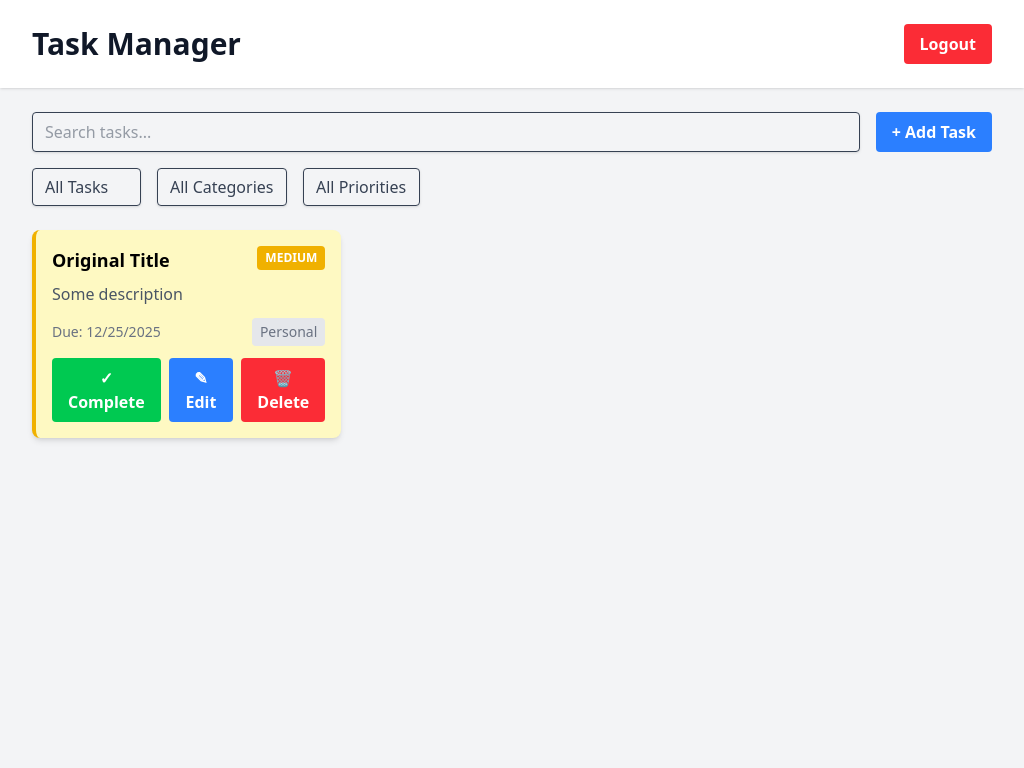
Scenario: TaskManager › shows success notification when editing a task
# Enter edit mode
Click the button with aria-label "edit task": click(201, 390) [169,358,233,422]
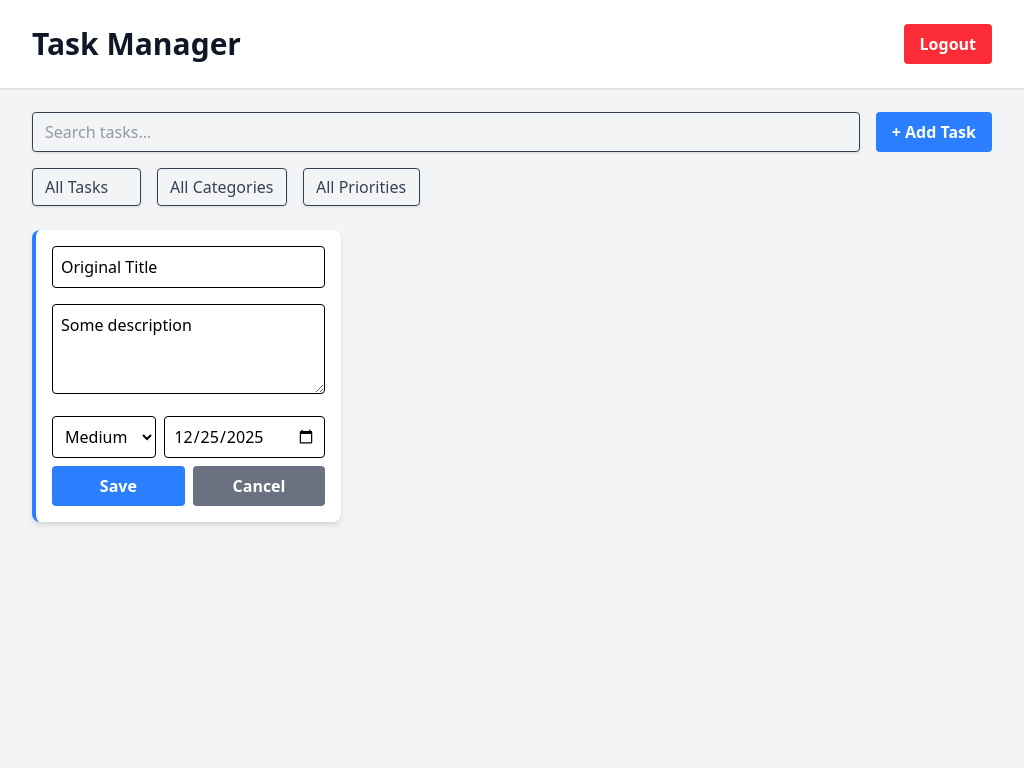
# Change title
Replace the text in the field named "task title" with "Updated Title": (189, 267) [52,246,325,288]
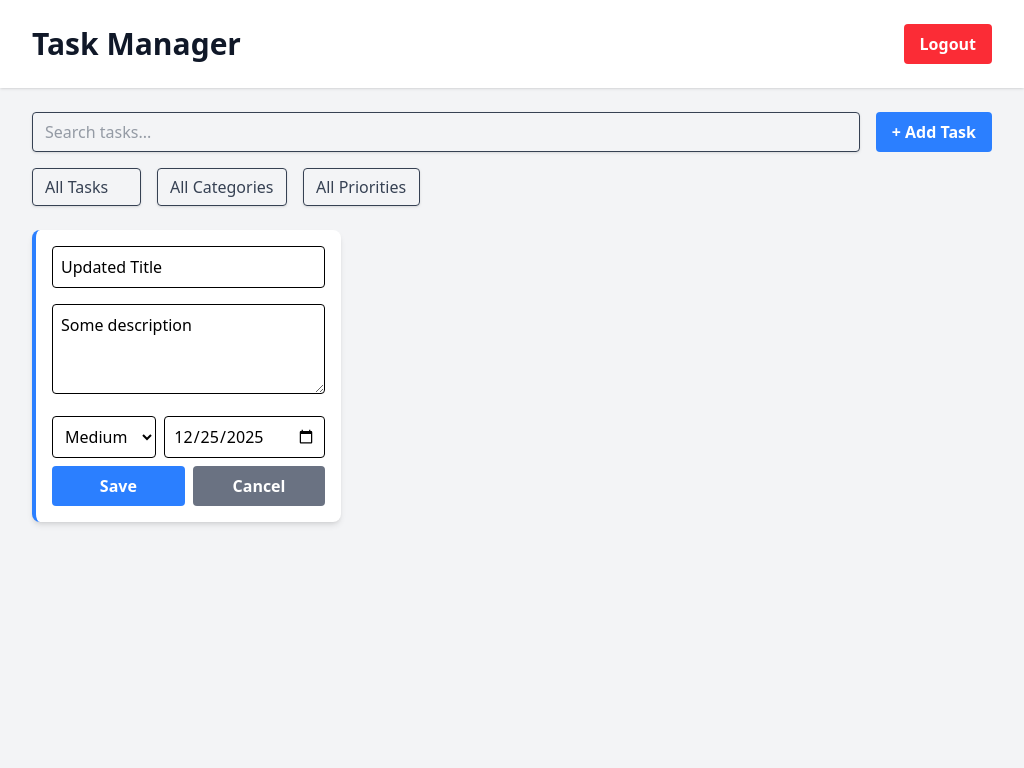
Click the button with aria-label "save task": click(118, 486) [52,466,185,506]
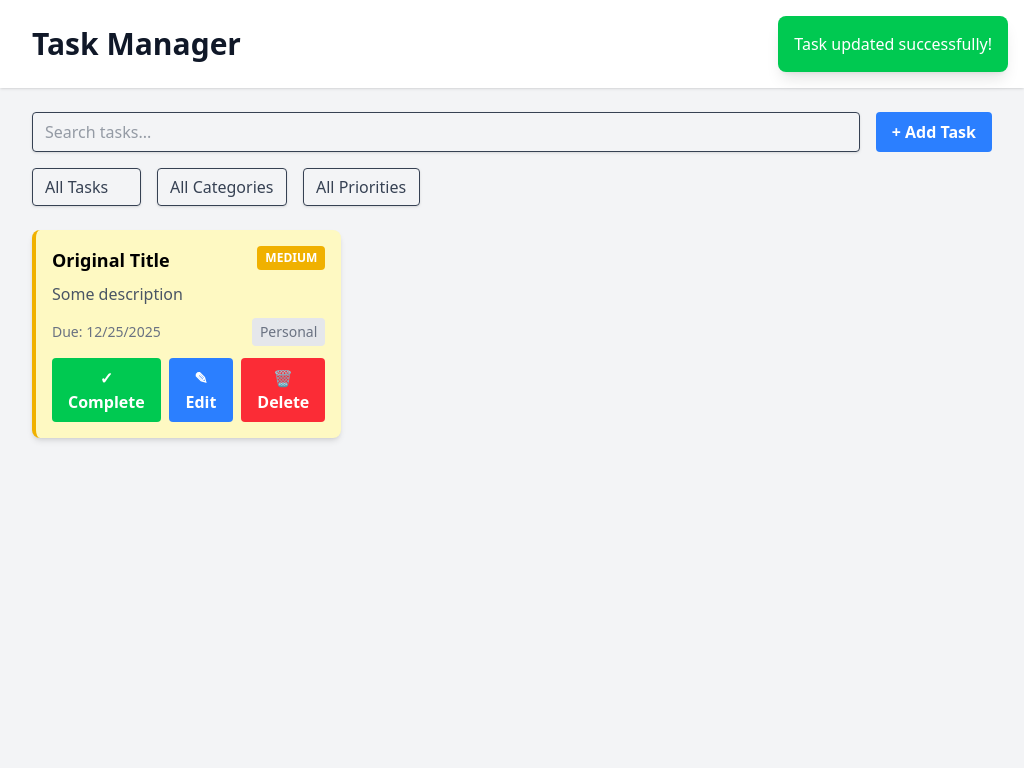
Result: the text "Task updated successfully!" is shown at [778,16,1008,72]
